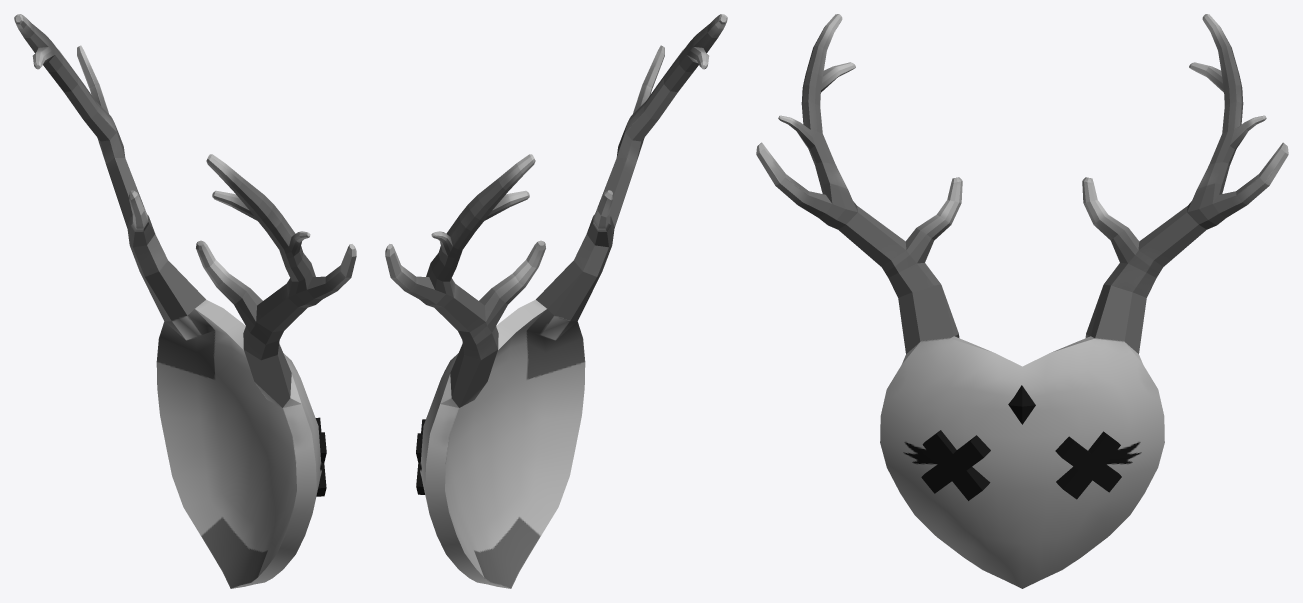
The model's file is SM_Mask_Oni.fbx.
3 renders of one model, left to right at view 1: azimuth 30°, elevation 25°; view 2: azimuth 150°, elevation 25°; view 3: azimuth 270°, elevation 25°, orthographic. The views are drawn at different scales.
Parts seen in each view (by area): view 1: AM_Oni; view 2: AM_Oni; view 3: AM_Oni.
Part boxes in pixels (bbox=[...]): AM_Oni: bbox=[14, 14, 356, 588]; AM_Oni: bbox=[385, 14, 727, 588]; AM_Oni: bbox=[756, 14, 1288, 588].
Size of the model in its own units: 59.36 by 162 by 152.
